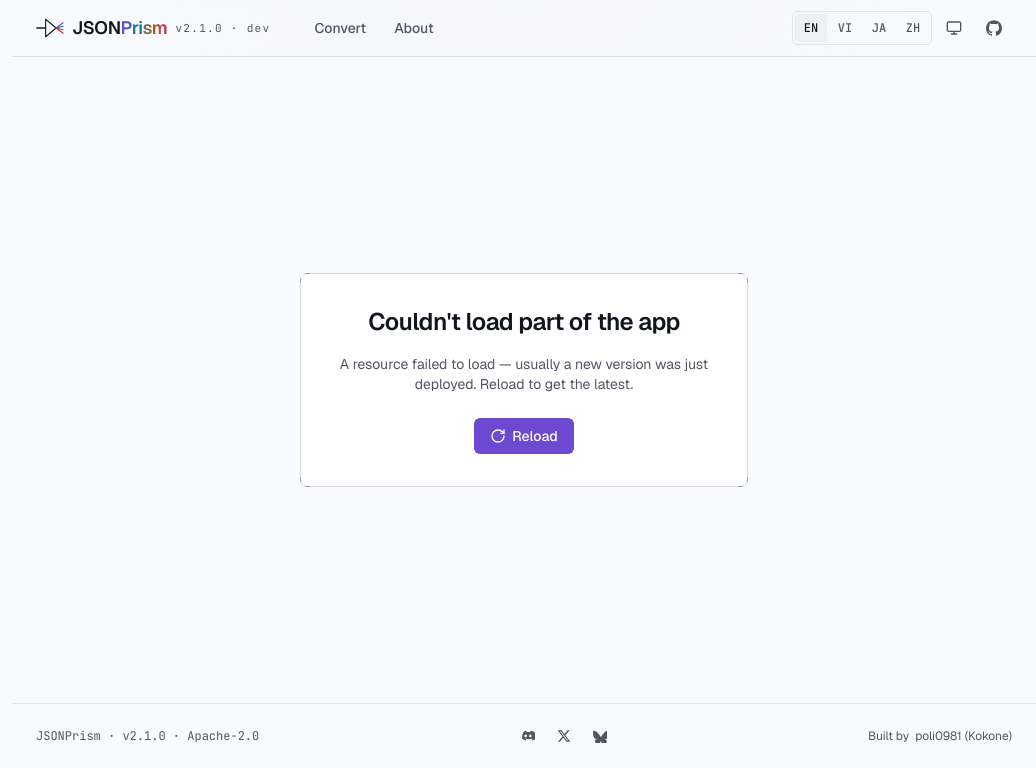
Test: Layout › keeps the shell when a page chunk fails and recovers on navigation
Expected: the heading "Couldn't load part of the app" is shown, 368,306 -> 680,338
Expected: the header is shown, 12,0 -> 1035,57
Click the link "Convert": click(340, 28) 314,19 -> 366,37
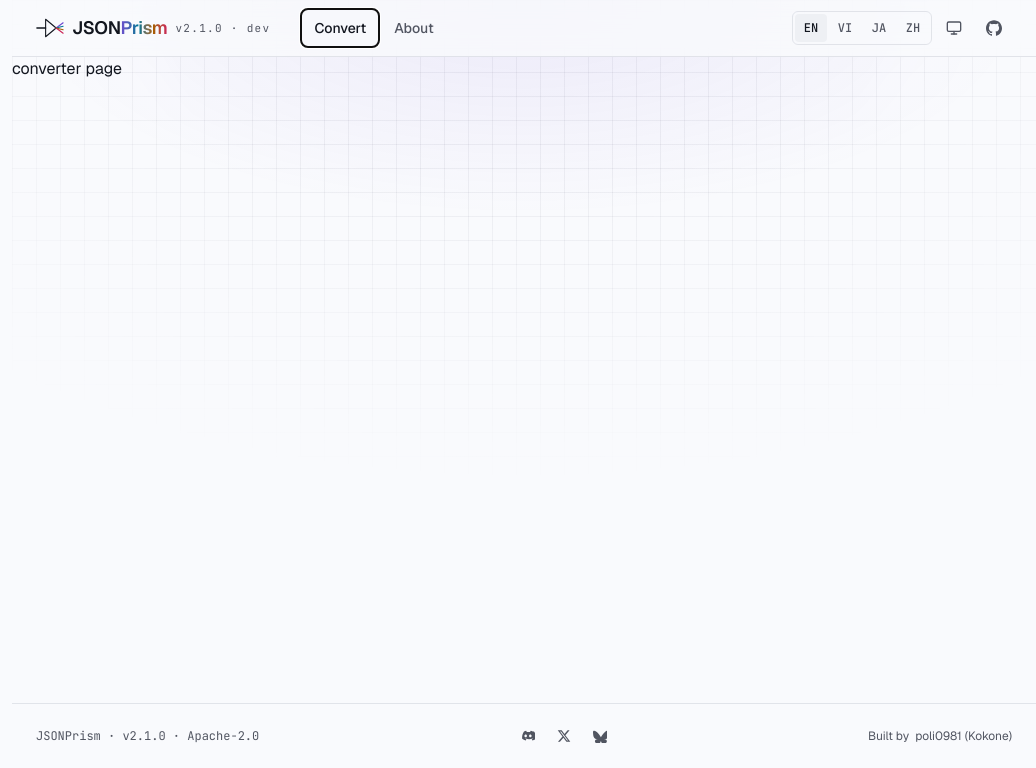
Expected: the text "converter page" is shown, 12,58 -> 122,79
Expected: the heading "Couldn't load part of the app" is gone
